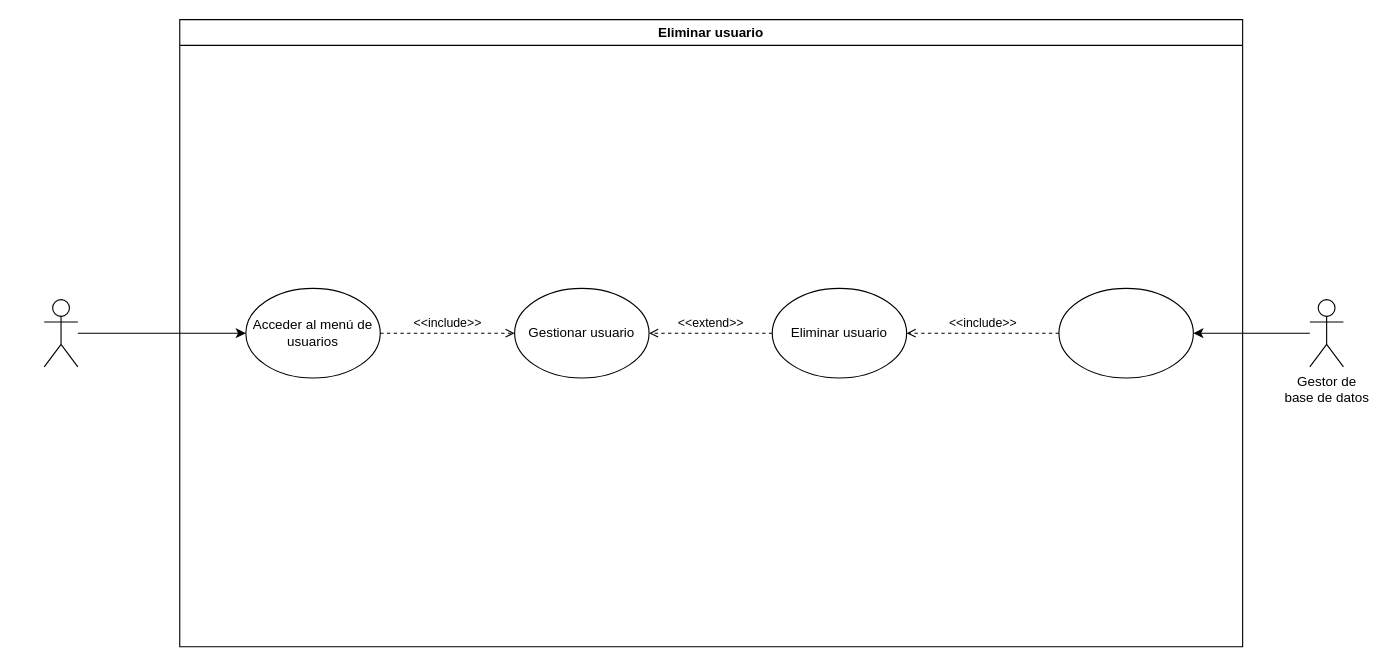
Some shapes in this 1388 by 666 pixel diagram are drawn without their labels. Each missing label, with the box of its shape:
Administrador: (43, 298, 78, 367)
Consultar: (1058, 287, 1193, 378)
